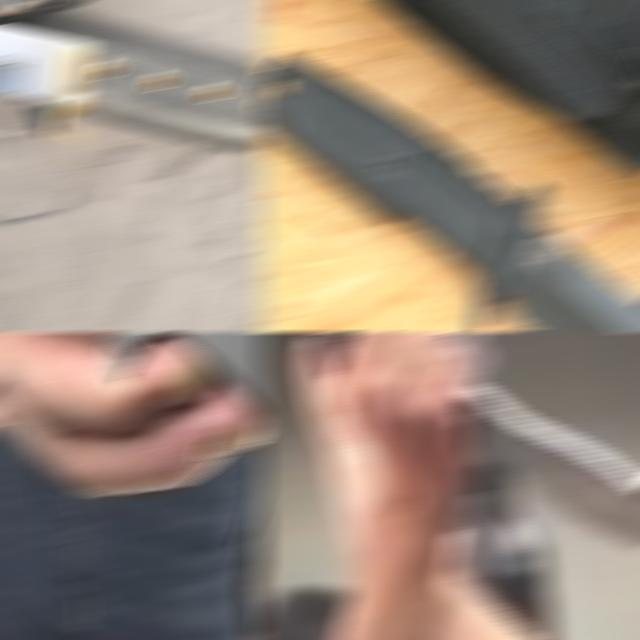Knife: (257, 54, 640, 332), (456, 386, 640, 555)
Knife_Handle: (316, 332, 640, 576)
